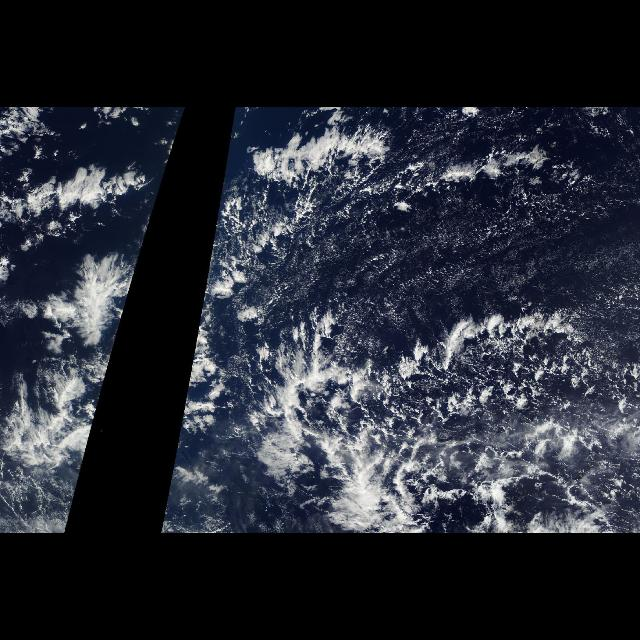Fish: (246, 117, 628, 533), (2, 161, 148, 477)
Gravel: (347, 210, 589, 324)
Sugar: (292, 235, 640, 328)
